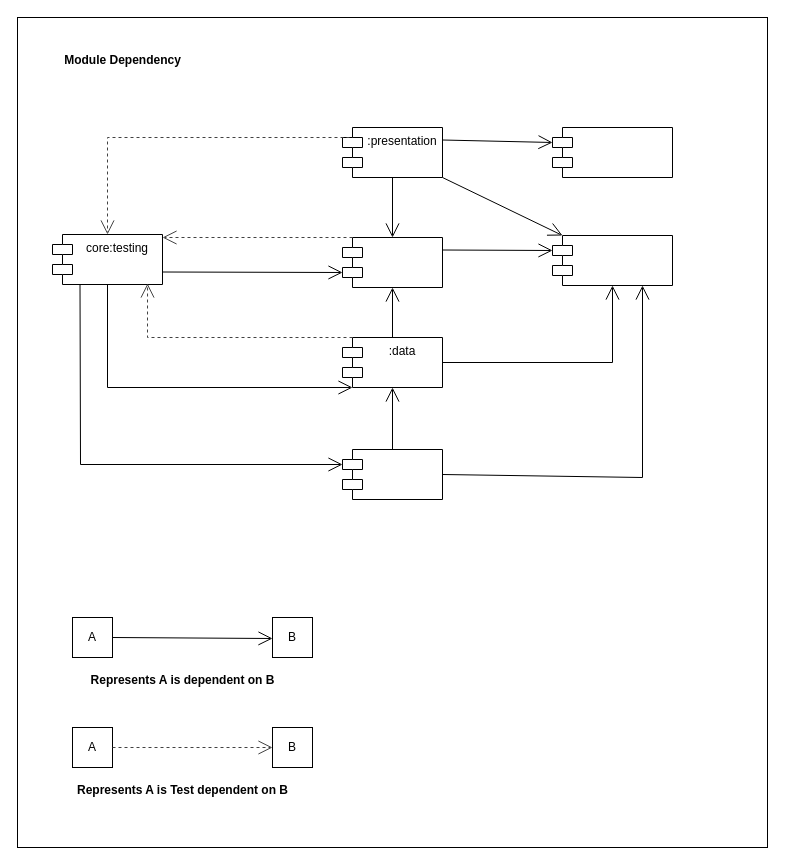
Some shapes in this 785 by 865 pixel diagram are drawn without their labels. Each missing label, with the box of its shape:
:core:common: (552, 234, 672, 286)
:core:network: (342, 448, 442, 500)
:core:uiWidget: (552, 126, 672, 178)
:domain: (342, 236, 442, 288)
